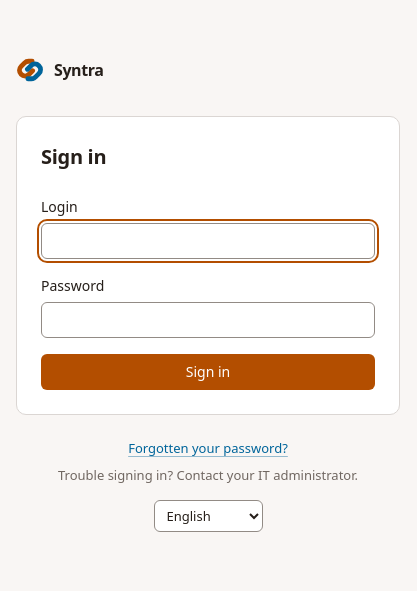
Test: Login › reports a rate limit differently from a bad password
The image size is (417, 591).
Type "jdoe" into the field labelled "Login" at [208, 241], box left=41, top=223, right=375, bottom=259
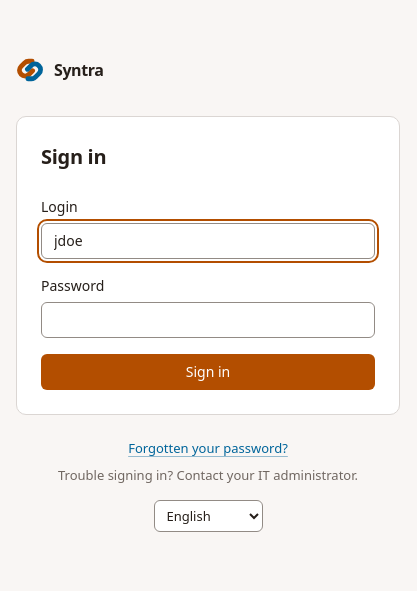
Type "wrong" into the password field labelled "Password" at [208, 320], box left=41, top=302, right=375, bottom=338
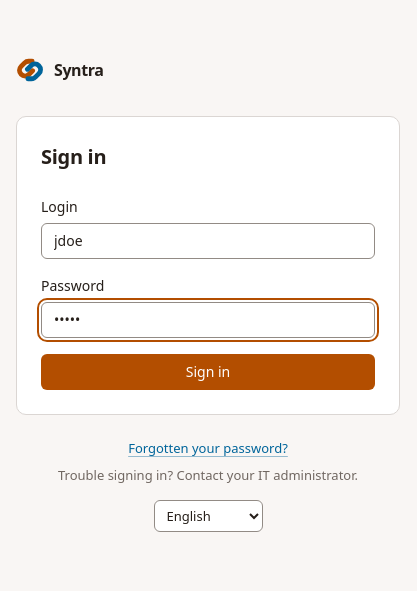
Click the button "Sign in" at [208, 372], box left=41, top=354, right=375, bottom=390
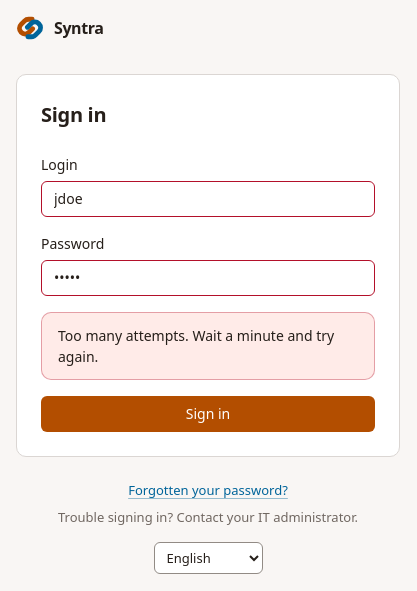
Expected: the message shows "Too many", left=58, top=326, right=334, bottom=366
